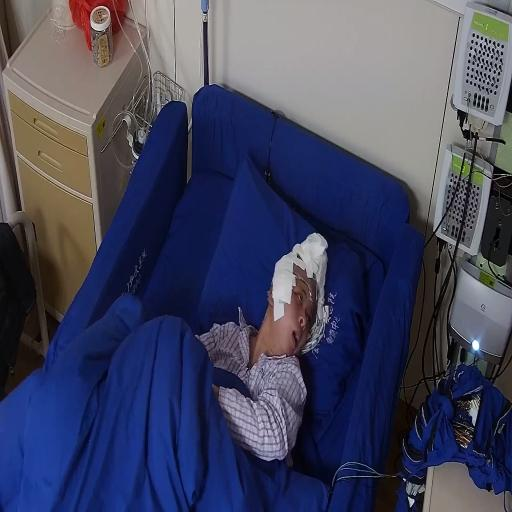Seizure: (268, 250, 316, 358)
